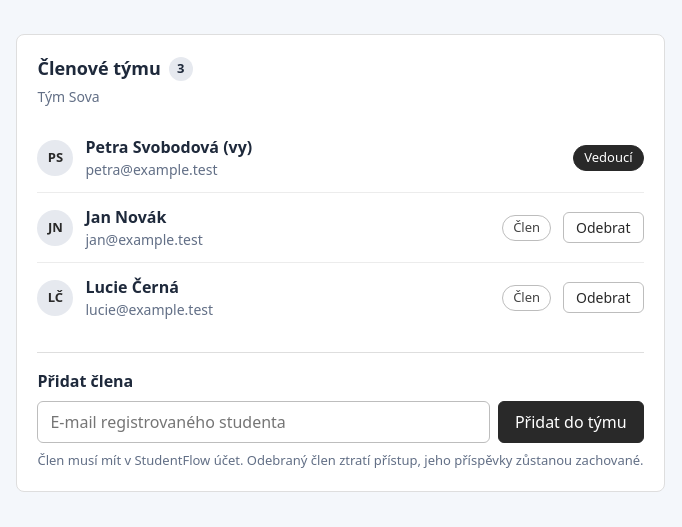
Test: ProjectMembers messages › clears an old removal message as soon as the form is submitted
Click the button "Odebrat" in the row of "JN": (603, 228) [563,212,644,243]
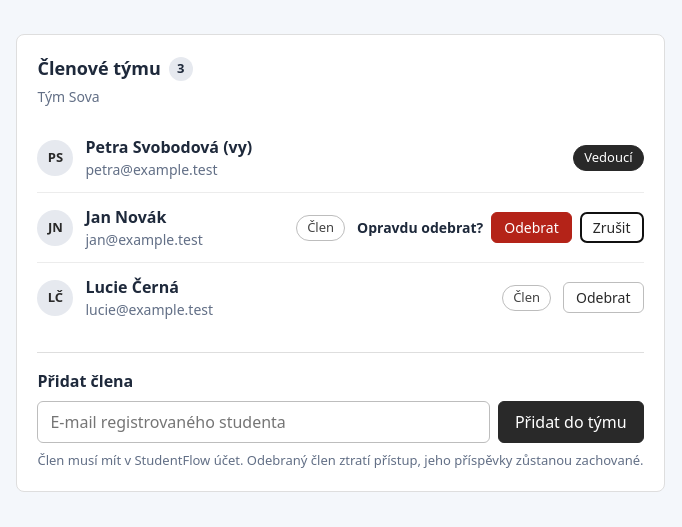
Click the button "Odebrat" next to "Opravdu odebrat?": (531, 228) [491,212,572,243]
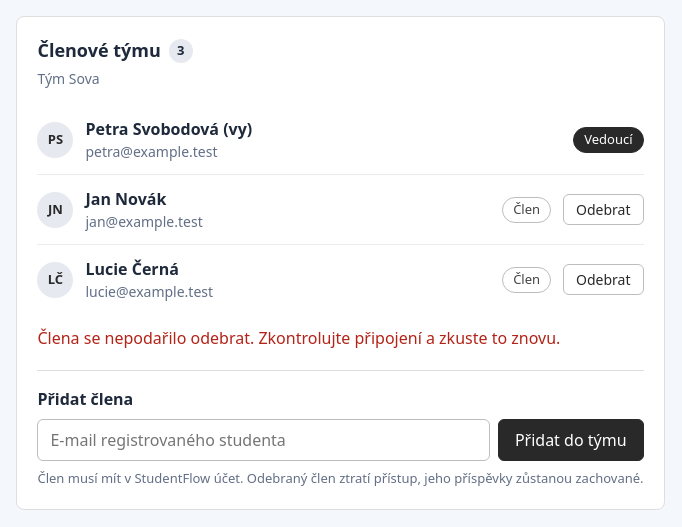
Check: the message "Člena se nepodařilo odebrat. Zkontrolujte připojení a zkuste to znovu." is shown, box [38,326,644,350]
In the field labelled "E-mail registrovaného studenta": (264, 440) [38,419,490,461], type "lucie@example.test"
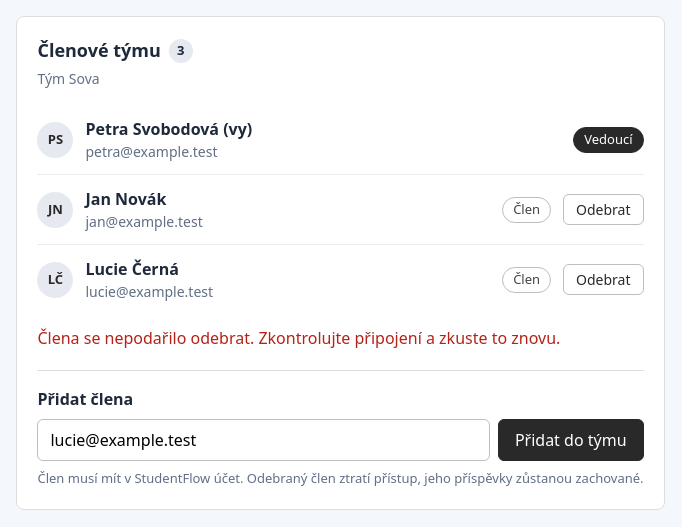
Submit the form, box [38,370,644,489]
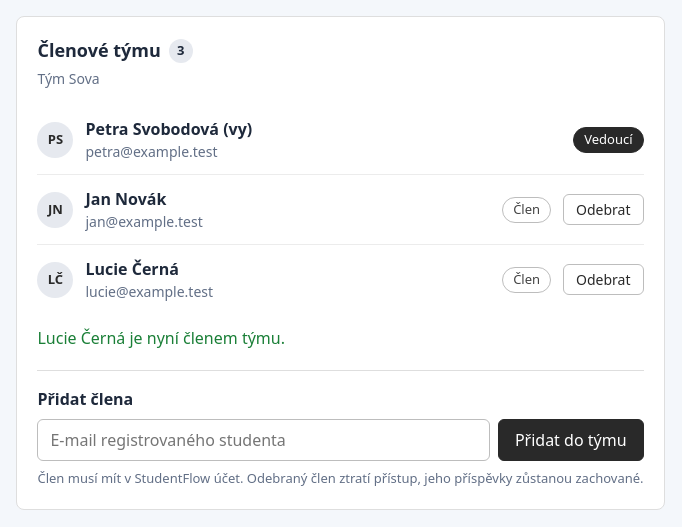
Check: the message reads "Lucie Černá je nyní členem týmu.", box [38,327,285,349]
